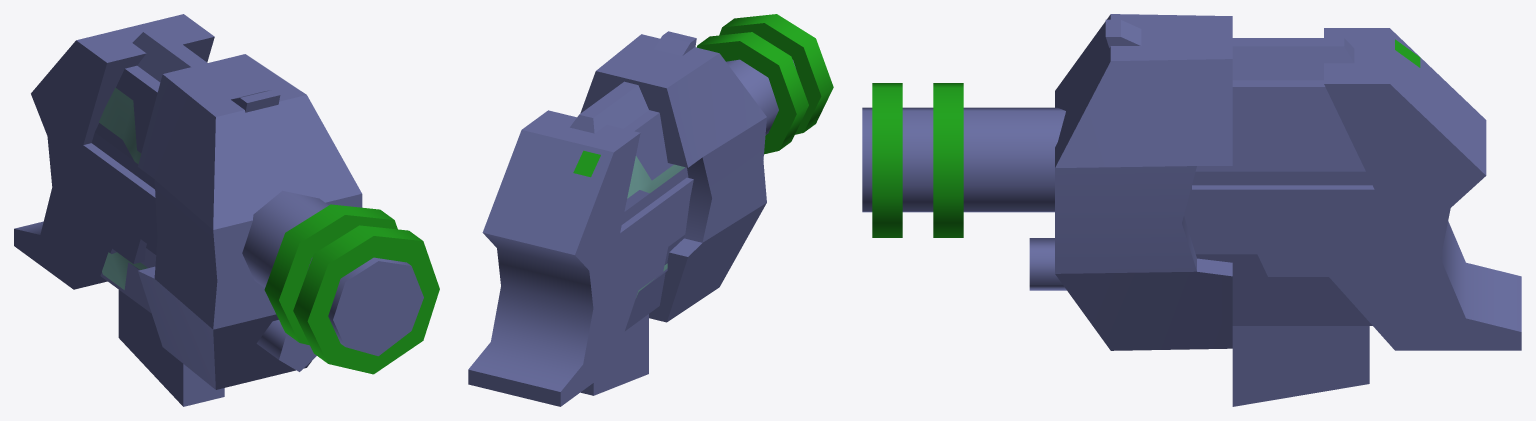
Rendered from MiningLaserLevel1.obj.
3 renders of one model, left to right at view 1: azimuth 30°, elevation 25°; view 2: azimuth 150°, elevation 25°; view 3: azimuth 270°, elevation 25°, orthographic. The views are drawn at different scales.
Parts seen in each view (by area): view 1: MiningLaser_LV1_Mesh_0190.001; view 2: MiningLaser_LV1_Mesh_0190.001; view 3: MiningLaser_LV1_Mesh_0190.001.
Boxes of the visible parts, <box> form: MiningLaser_LV1_Mesh_0190.001: <box>14,14,439,406</box>; MiningLaser_LV1_Mesh_0190.001: <box>468,14,833,406</box>; MiningLaser_LV1_Mesh_0190.001: <box>862,14,1521,406</box>.
Size of the model in its own units: 0.5193 by 1.15 by 1.88.
